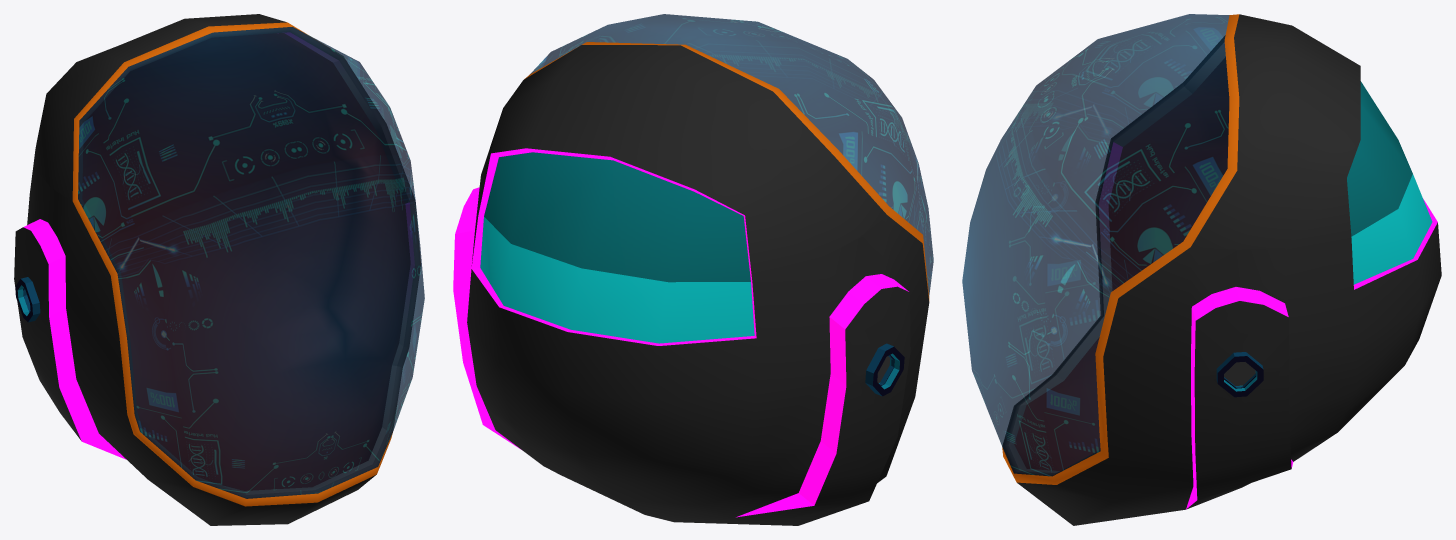
File: F_Helmet_LedSuit.glb
3 views of the same model, side by side, from view 1: azimuth 30°, elevation 25°; view 2: azimuth 150°, elevation 25°; view 3: azimuth 270°, elevation 25° (orthographic). The views are drawn at different scales.
Parts seen in each view (by area): view 1: F_Helmet_LedSuit; view 2: F_Helmet_LedSuit; view 3: F_Helmet_LedSuit.
Part boxes in pixels (x1,y1,x2,y2): F_Helmet_LedSuit: (14, 14, 424, 525); F_Helmet_LedSuit: (453, 14, 933, 525); F_Helmet_LedSuit: (962, 14, 1441, 525).
Size of what is drawn, in the model's own units: 0.8582 by 0.9798 by 0.9169.
Materials: 2 (2 with a texture image).
